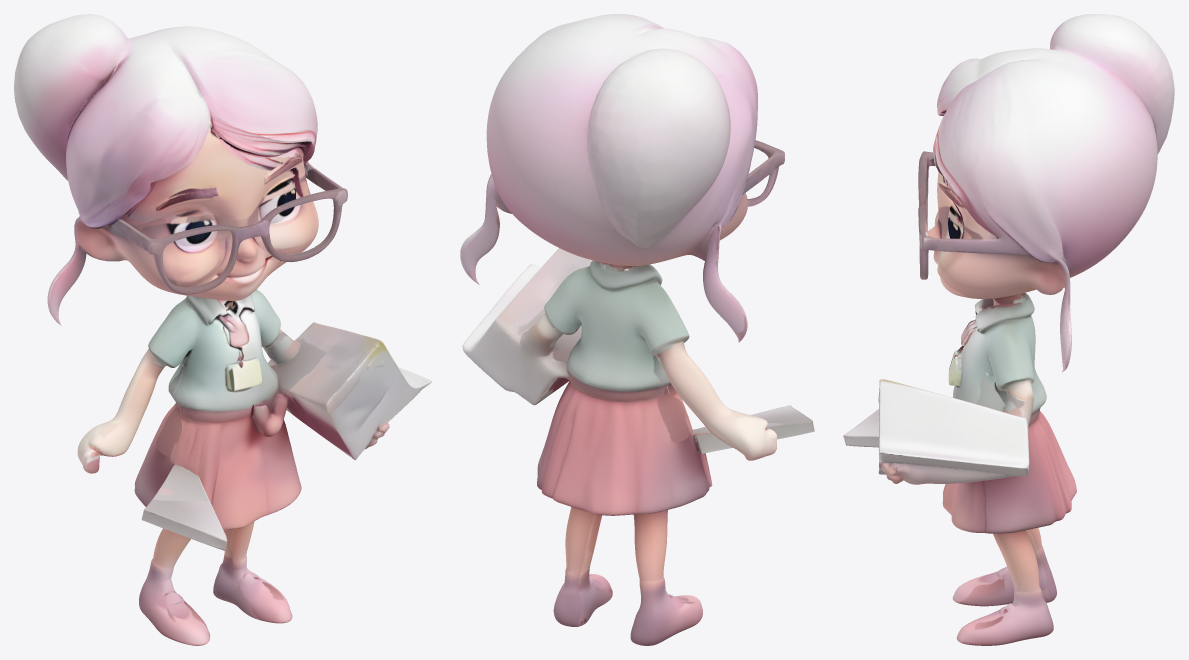
Rendered from female-avatar.glb.
The picture shows the model from 3 angles, left to right: view 1: azimuth 30°, elevation 25°; view 2: azimuth 150°, elevation 25°; view 3: azimuth 270°, elevation 25°; orthographic projection. The views are drawn at different scales.
Visible parts, largest first — view 1: model; view 2: model; view 3: model.
Part boxes in pixels (bbox=[...]): model: bbox=[14, 14, 431, 645]; model: bbox=[460, 14, 814, 645]; model: bbox=[843, 14, 1174, 645].
Bounding box in the file's own units: 1.01 × 1.9 × 1.02.
1 material, 1 textured.
